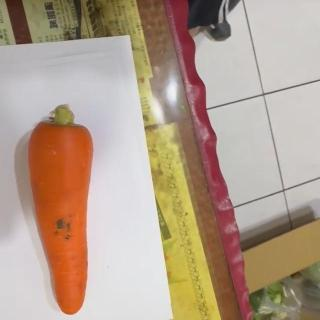carrot: (28, 105, 96, 319)
